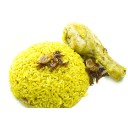briyani: (12, 23, 127, 107)
